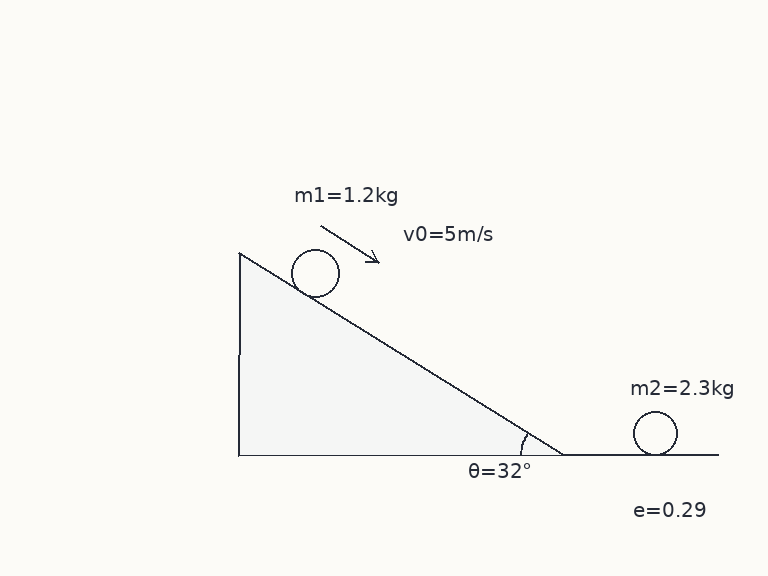ball: (289, 247, 341, 299), (631, 409, 679, 457)
ramp: (237, 252, 563, 457)
